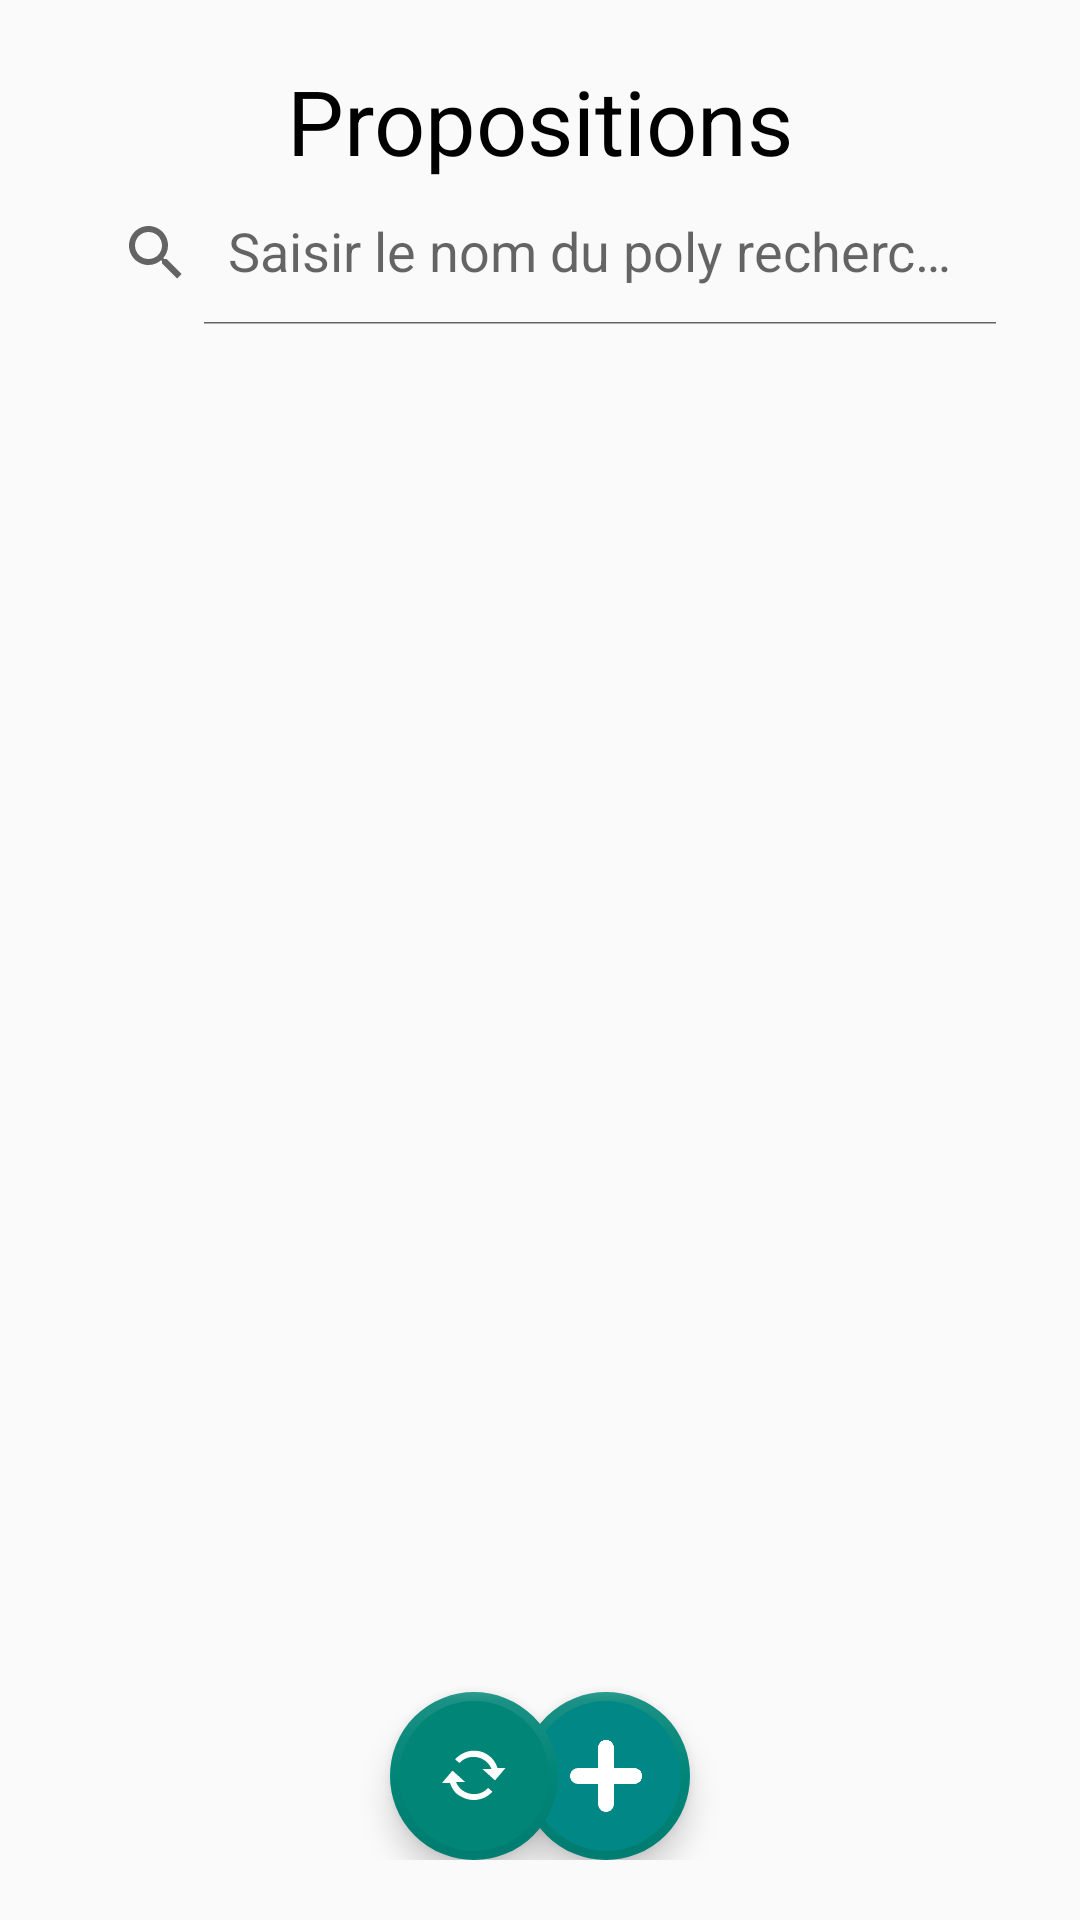

Screen size 1080 × 1920. Icon name, then its box in pixels as [x1,y1,x2,y2]:
plus: [522,1692,690,1860]
sync: [390,1692,558,1860]
